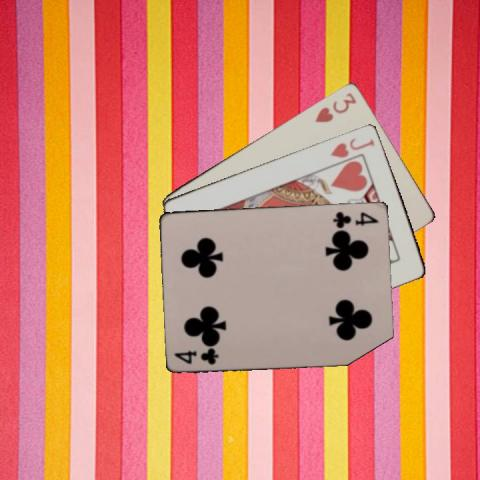3h: (312, 89, 358, 124)
4c: (172, 345, 220, 366), (330, 208, 380, 228)
Jh: (327, 135, 376, 159)
